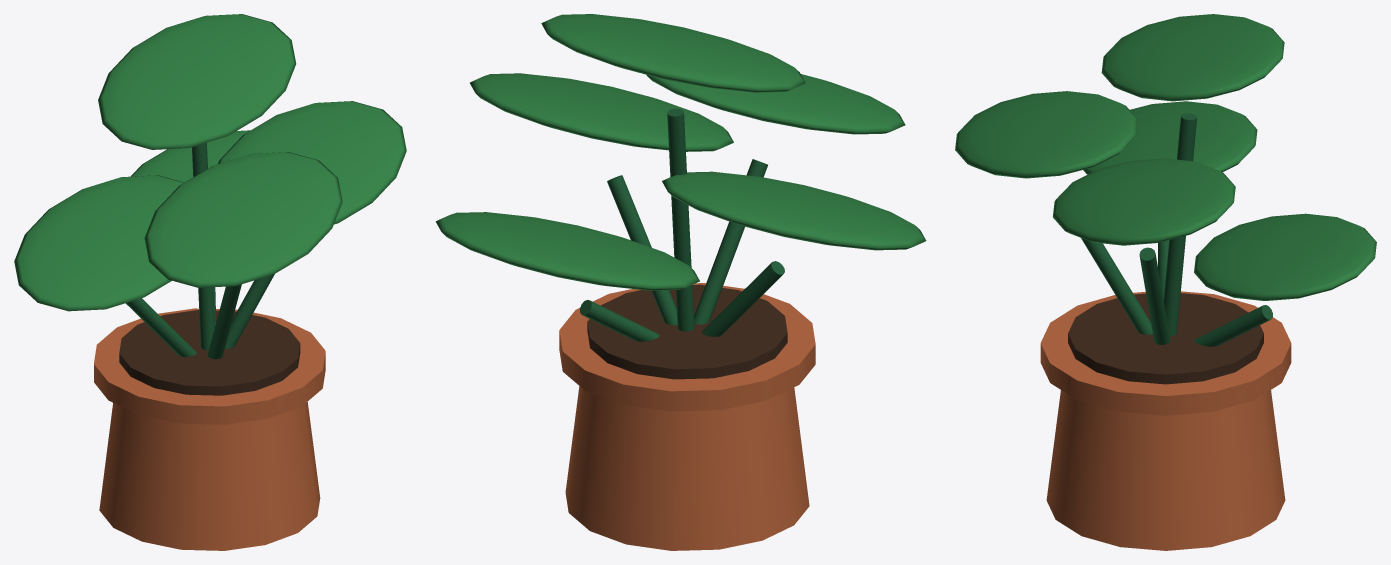
3 renders of one model, left to right at view 1: azimuth 30°, elevation 25°; view 2: azimuth 150°, elevation 25°; view 3: azimuth 270°, elevation 25°, orthographic. The views are drawn at different scales.
Visible parts, largest first — view 1: indoor-monstera; view 2: indoor-monstera; view 3: indoor-monstera.
Boxes of the visible parts, x1=… form: indoor-monstera: x1=14, y1=14, x2=406, y2=550; indoor-monstera: x1=435, y1=14, x2=926, y2=550; indoor-monstera: x1=955, y1=14, x2=1376, y2=550.
Bounding box in the file's own units: 0.8798 × 0.956 × 0.7772.
